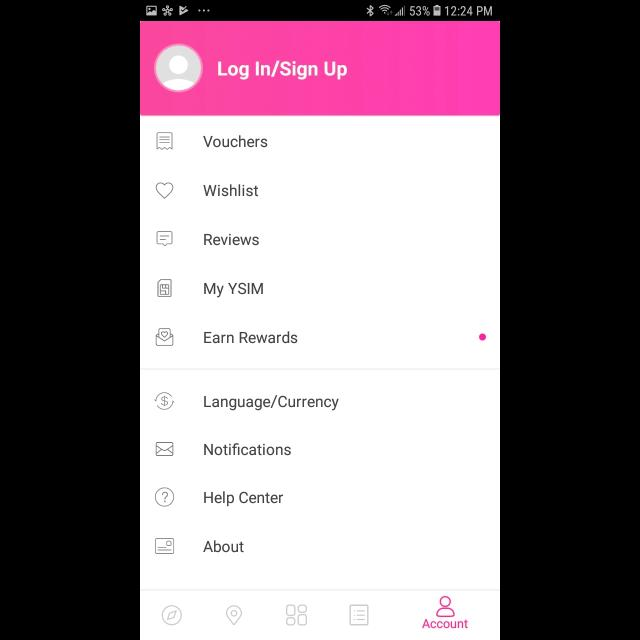icon: (154, 44, 204, 92), (286, 604, 308, 626), (436, 595, 456, 617), (349, 604, 368, 626), (162, 605, 182, 625), (154, 392, 176, 410), (156, 488, 174, 507), (156, 328, 174, 346), (156, 182, 174, 200), (226, 605, 242, 625), (156, 538, 174, 554), (157, 132, 173, 150), (156, 442, 174, 456), (158, 279, 172, 297), (157, 232, 173, 246)
text: (218, 60, 348, 80), (204, 395, 340, 411), (204, 491, 284, 507), (205, 442, 292, 456), (204, 332, 298, 344), (204, 282, 264, 298), (204, 136, 268, 148), (204, 234, 260, 246), (204, 184, 258, 196), (203, 540, 244, 552), (422, 619, 468, 629)
uppertaskbar: (140, 1, 500, 21)
